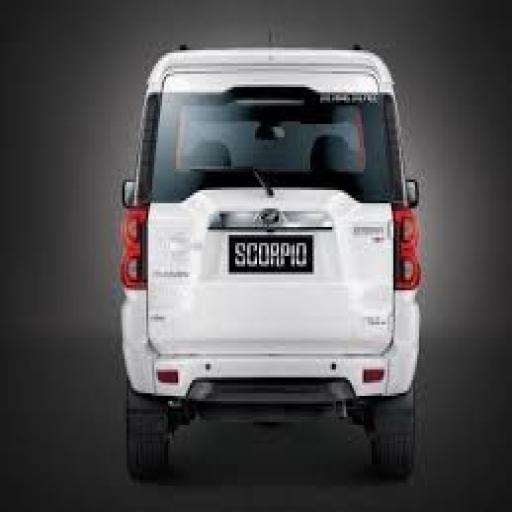car: (112, 29, 440, 490)
